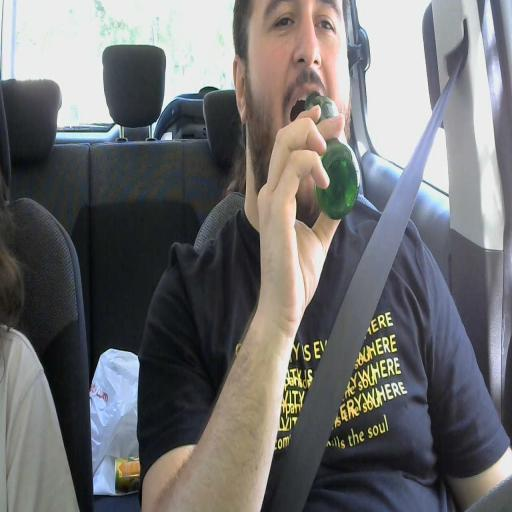Drinking: (234, 0, 362, 219)
